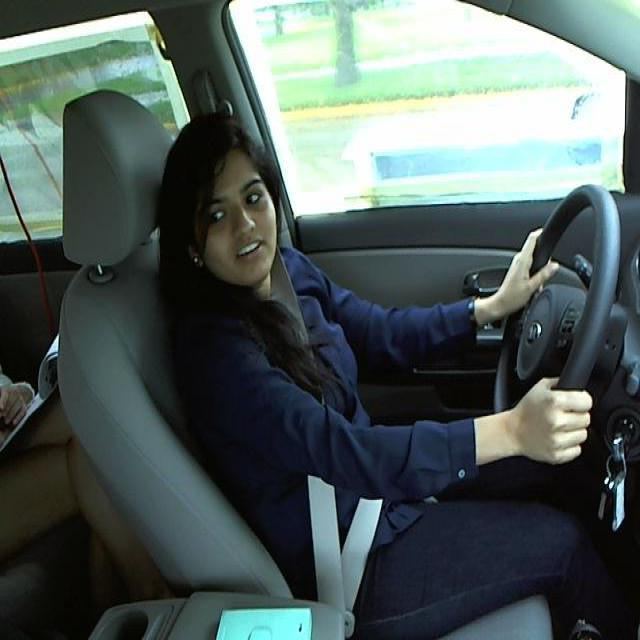seatbelt: (280, 313, 387, 604)
